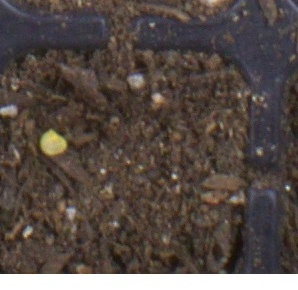chilli seed: (38, 128, 68, 156)
